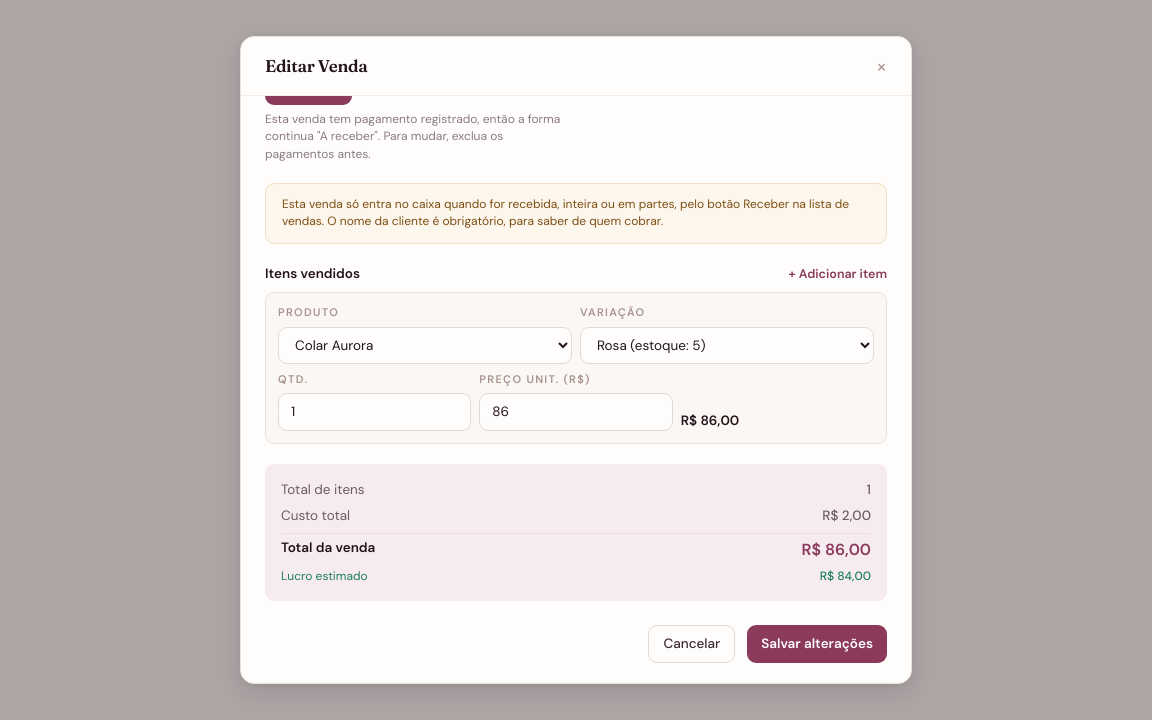
Test: SaleForm: venda com pagamento registrado › should_refuse_a_total_below_what_was_already_received
The width and height of the screenshot is (1152, 720).
(page scrolled)
Clear the field showing "86" at (576, 412), box [479,393,673,431]
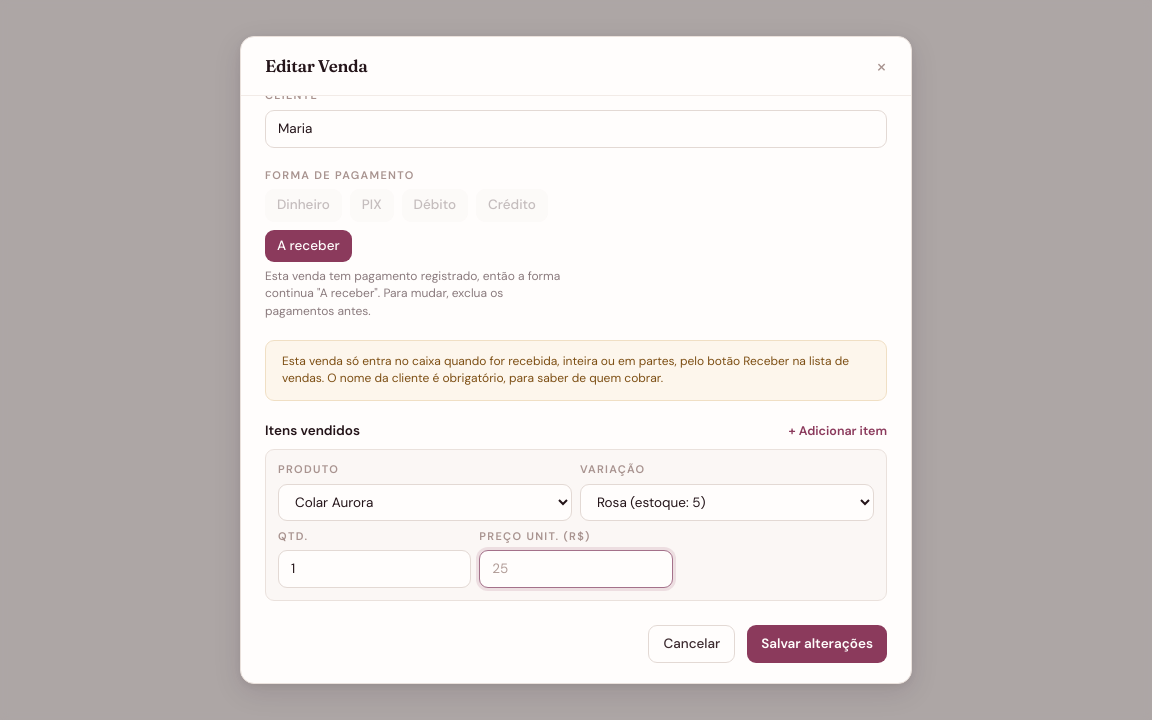
Type "40" into the field showing "86" at (576, 569), box [479,550,673,588]
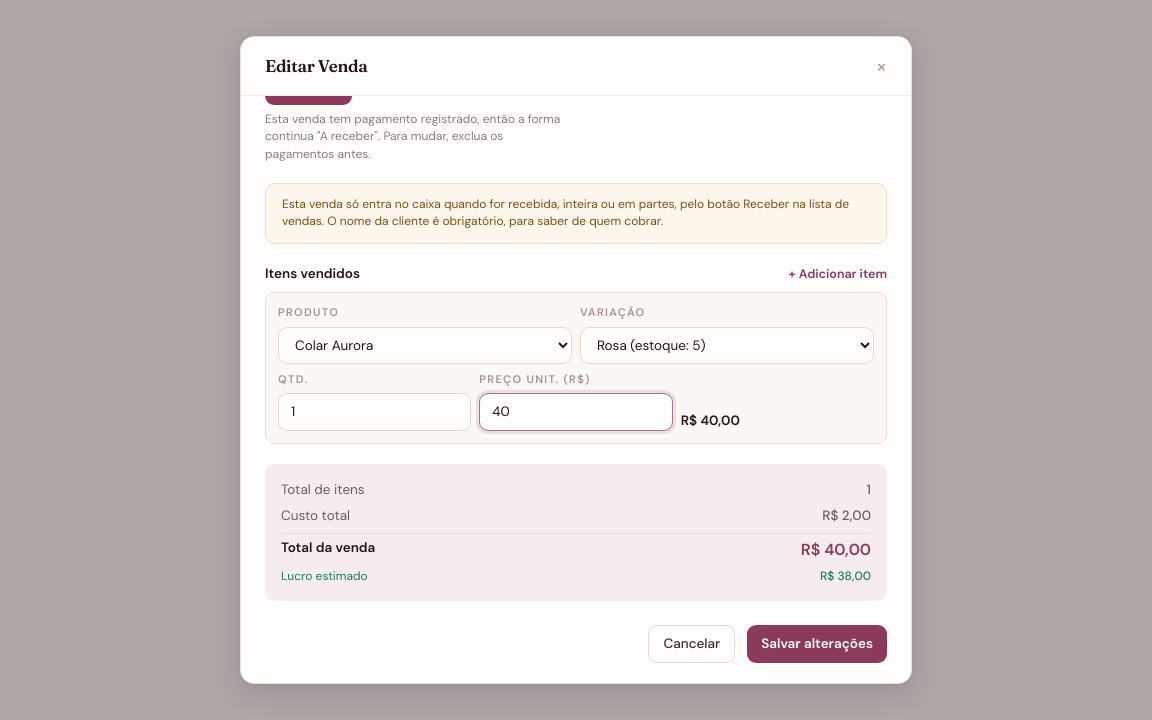
Click the button "Salvar alterações" at (817, 644), box [747,625,887,663]
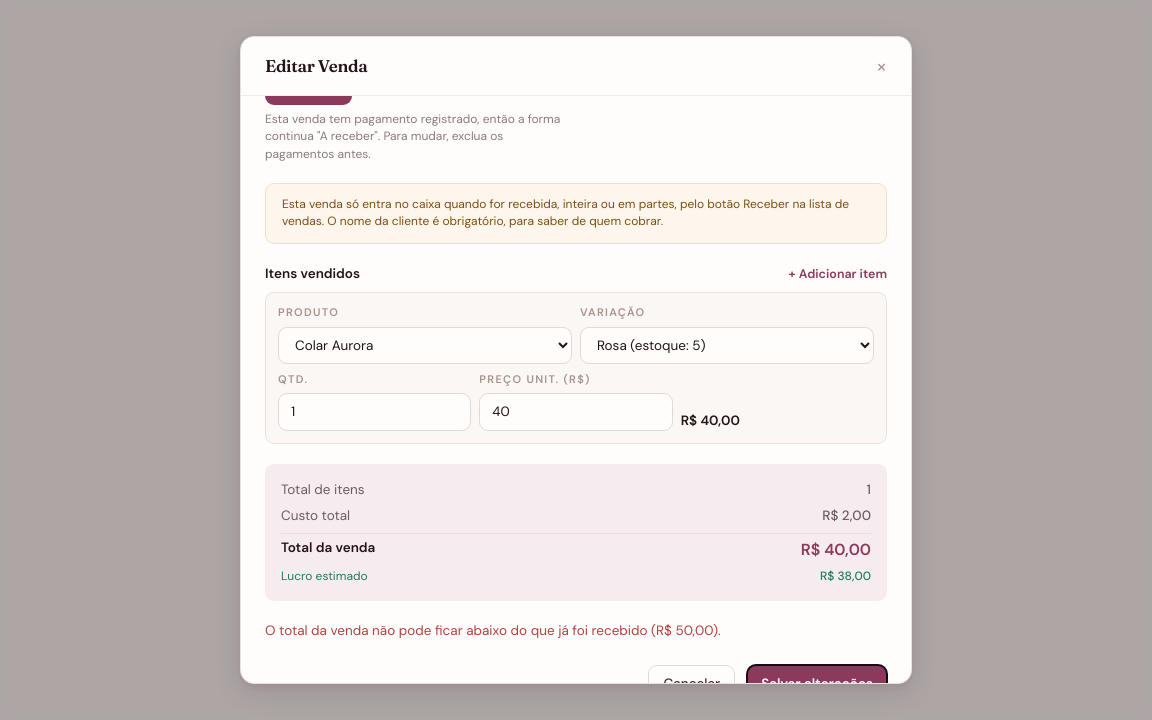
Expected: the text "abaixo do que já foi recebido" is shown, [265,622,721,639]
